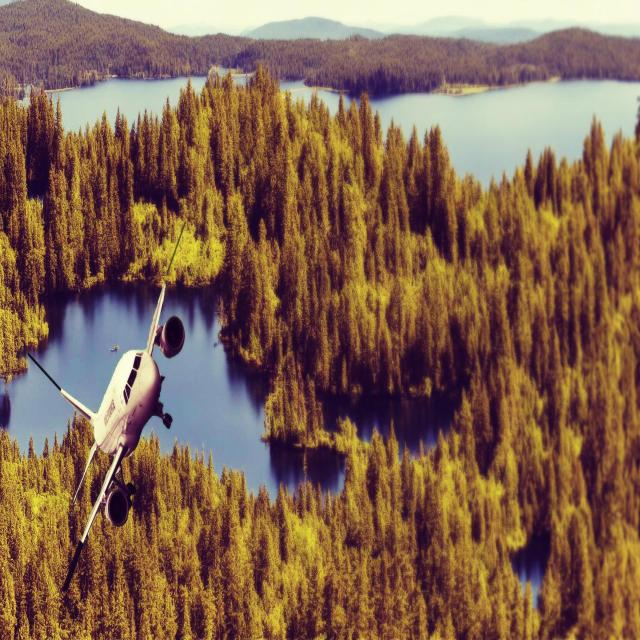airplane: (26, 222, 188, 590)
